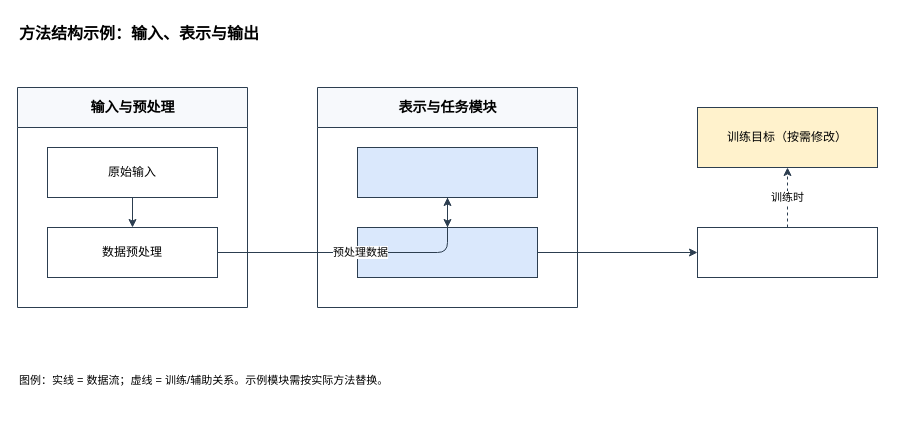
The diagram is 915 pixels wide and 434 high, and some of its shapes have lost their labels. The shapes that lost their labels are listed below. From the top down, each one's box as (x1, y1, x2, y2) in pixels, then its label:
(356, 146, 538, 198): 表示编码器
(356, 226, 538, 278): 任务输出模块
(696, 226, 878, 278): 任务输出
